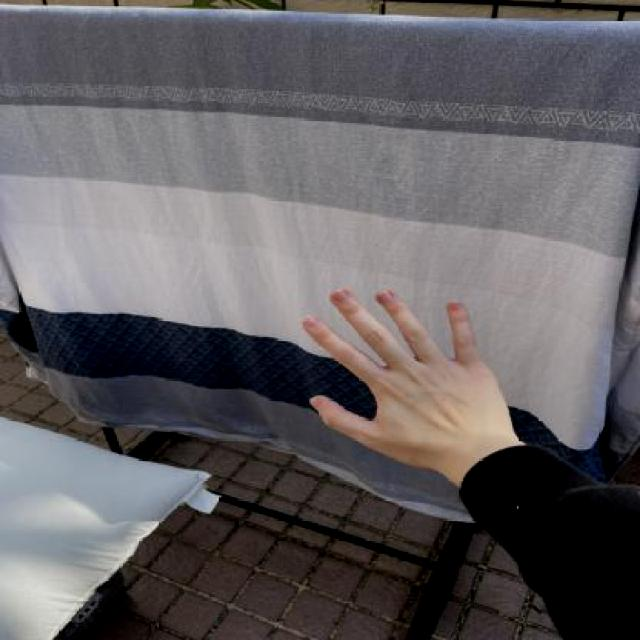no_glove: (276, 278, 526, 480)
